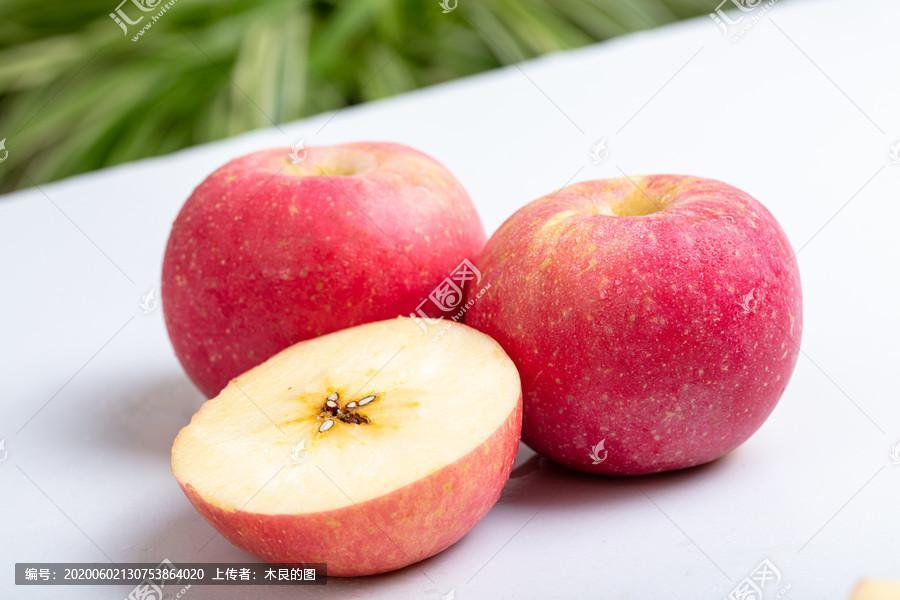apple: (451, 169, 801, 475), (162, 141, 485, 398)
